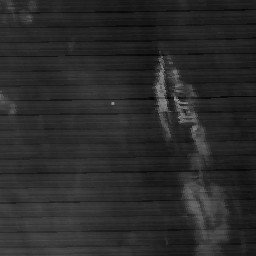Target: (109, 100, 117, 106)
